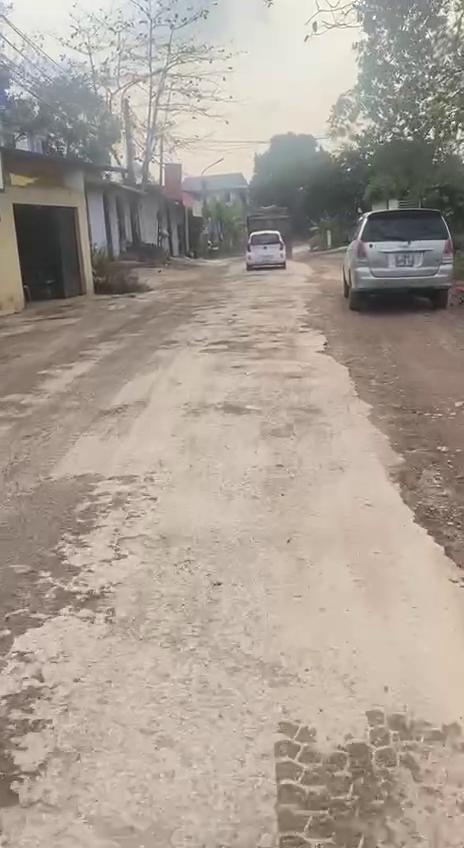pothole: (0, 550, 84, 644), (0, 691, 32, 805)
